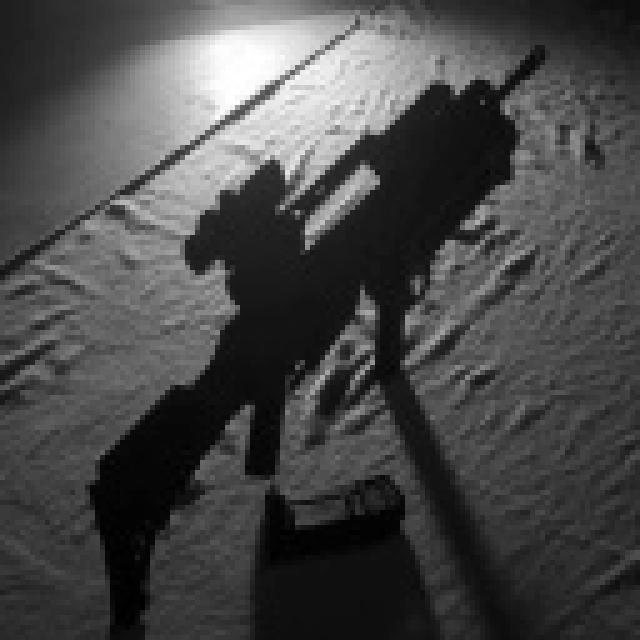Rifle: (60, 24, 566, 607)
